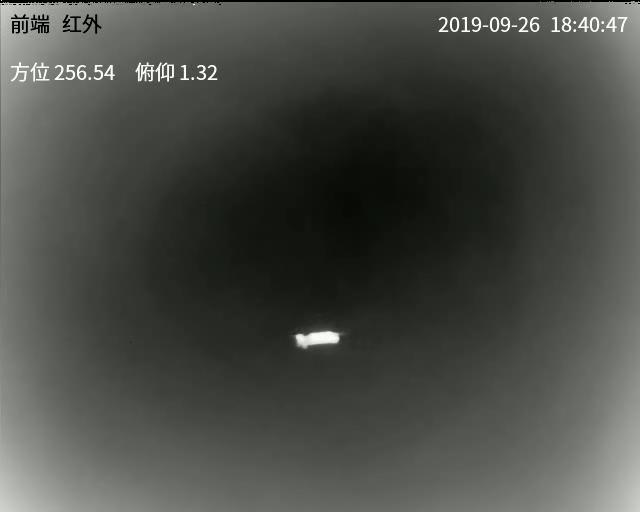uav: (291, 327, 349, 349)
